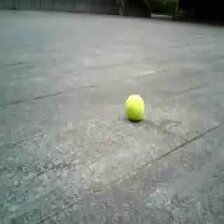tennis: (125, 94, 144, 120)
